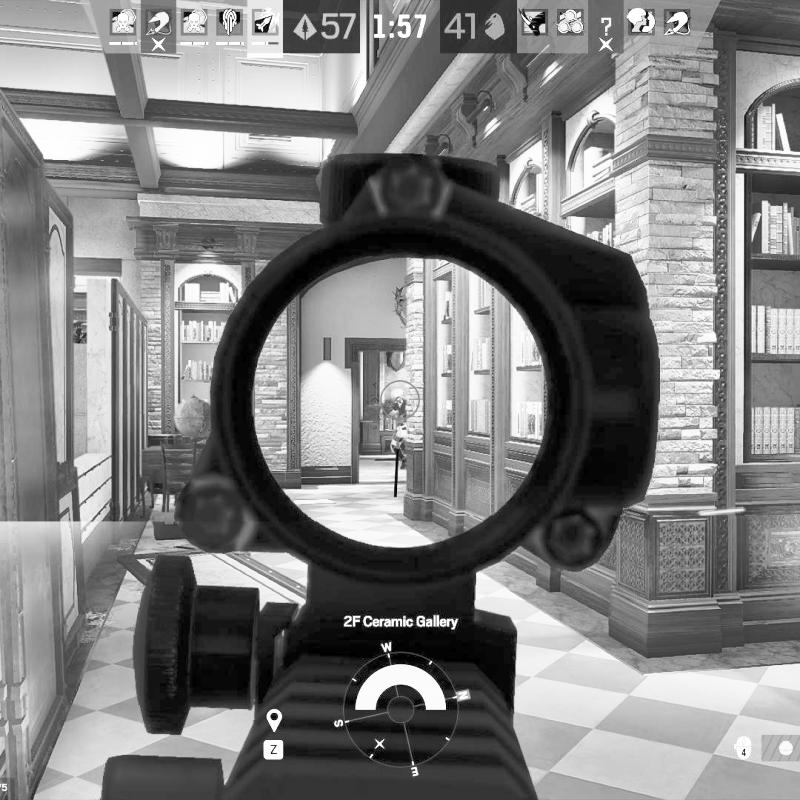Character: (384, 386, 412, 472)
Head: (390, 387, 405, 402)
